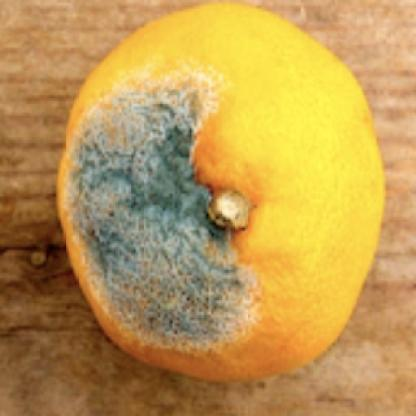rotten: (55, 3, 388, 383)
